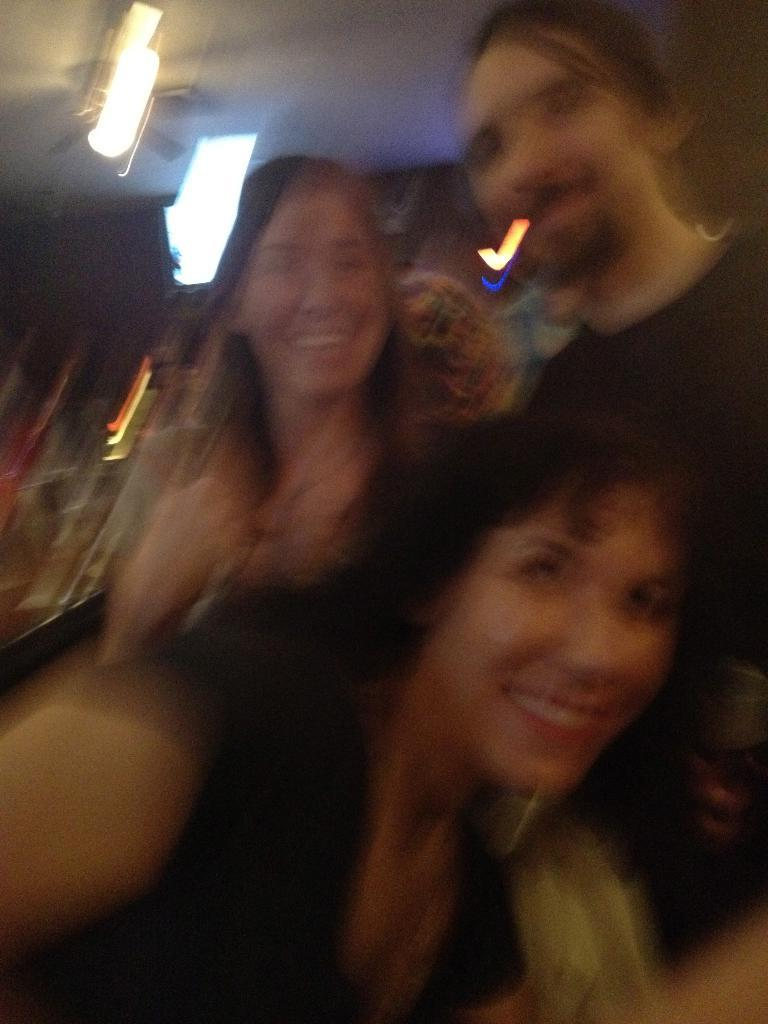Sem Máscara: (420, 488, 672, 796)
